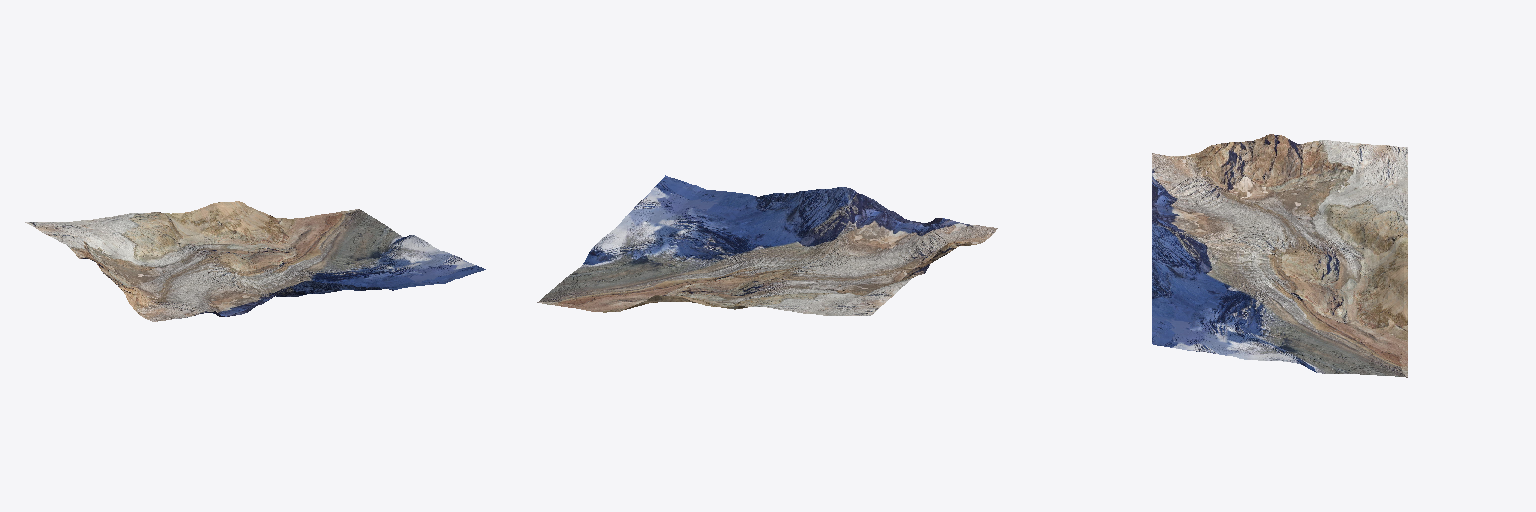
The picture shows the model from 3 angles: view 1: azimuth 30°, elevation 25°; view 2: azimuth 150°, elevation 25°; view 3: azimuth 270°, elevation 25°; orthographic projection.
Parts seen in each view (by area): view 1: EXPORT_GOOGLE_SAT_WM.019; view 2: EXPORT_GOOGLE_SAT_WM.019; view 3: EXPORT_GOOGLE_SAT_WM.019.
Part boxes in pixels (x1,y1,x2,y2): EXPORT_GOOGLE_SAT_WM.019: (25, 201, 485, 321); EXPORT_GOOGLE_SAT_WM.019: (537, 175, 997, 315); EXPORT_GOOGLE_SAT_WM.019: (1152, 134, 1407, 377).
Bounding box in the file's own units: 4562 × 1057 × 3041.
1 materials, 1 textured.